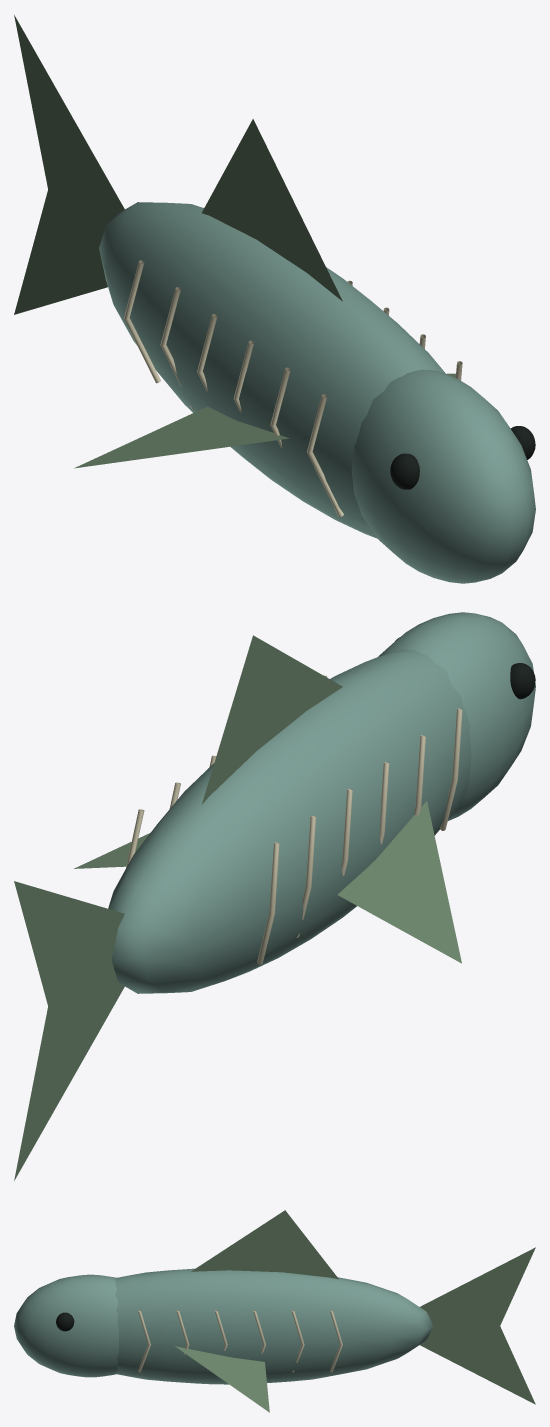
Rendered from fish.glb.
3 views of the same model, one above another, from view 1: azimuth 30°, elevation 25°; view 2: azimuth 150°, elevation 25°; view 3: azimuth 270°, elevation 25° (orthographic). The views are drawn at different scales.
Parts seen in each view (by area): view 1: Fish body, Fish head, Tail, Dorsal fin, Pectoral fin, Fish eye, Gill and scale lines, Gill and scale lines.005; view 2: Fish body, Tail, Fish head, Pectoral fin, Dorsal fin, Pectoral fin.001, Gill and scale lines, Gill and scale lines.005, Fish eye; view 3: Fish body, Fish head, Tail, Dorsal fin, Pectoral fin.001, Fish eye.001.
Part boxes in pixels (x1,y1,x2,y2): Fish body: [99, 202, 445, 538]; Fish head: [351, 369, 535, 583]; Tail: [14, 15, 124, 314]; Dorsal fin: [202, 119, 342, 301]; Pectoral fin: [74, 406, 289, 468]; Fish eye: [390, 453, 419, 489]; Gill and scale lines: [124, 260, 160, 383]; Gill and scale lines.005: [307, 394, 343, 517]; Fish body: [108, 649, 471, 993]; Tail: [14, 881, 124, 1180]; Fish head: [378, 612, 535, 820]; Pectoral fin: [337, 801, 461, 963]; Dorsal fin: [201, 635, 342, 804]; Pectoral fin.001: [74, 833, 149, 868]; Gill and scale lines: [257, 842, 279, 964]; Gill and scale lines.005: [440, 708, 462, 830]; Fish eye: [510, 663, 535, 699]; Fish body: [115, 1268, 433, 1384]; Fish head: [14, 1274, 118, 1377]; Tail: [420, 1247, 535, 1404]; Dorsal fin: [191, 1210, 338, 1279]; Pectoral fin.001: [175, 1346, 269, 1412]; Fish eye.001: [56, 1312, 74, 1331].
Bounding box in the file's own units: 0.46 × 0.42 × 1.02.
